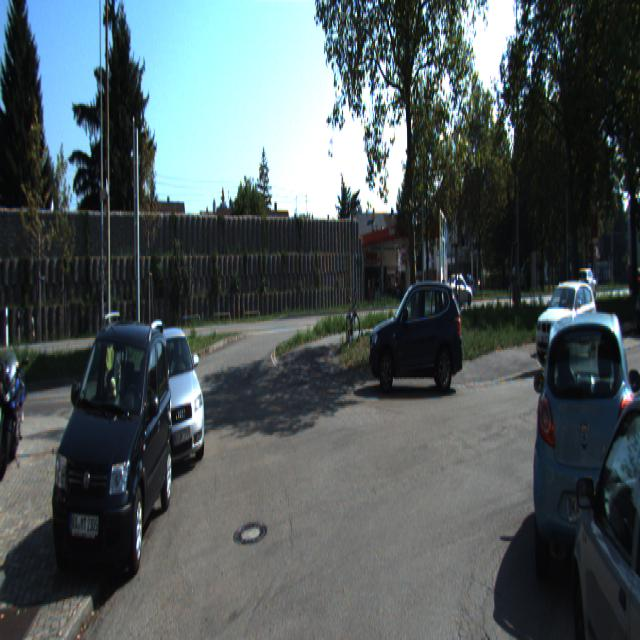Car: (48, 299, 180, 599), (527, 283, 640, 625), (564, 321, 639, 638), (364, 274, 464, 398), (136, 323, 210, 488), (529, 288, 597, 372), (442, 270, 475, 307)
